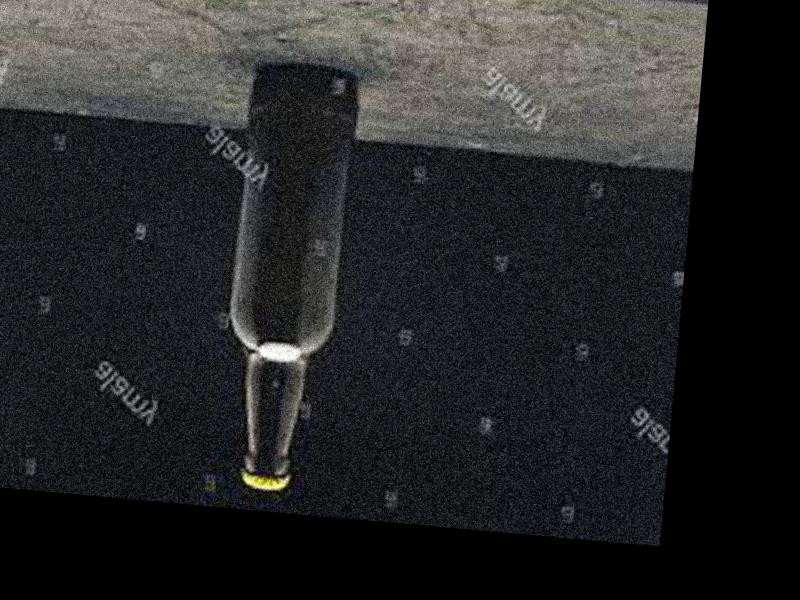Beer: (224, 64, 359, 493)
